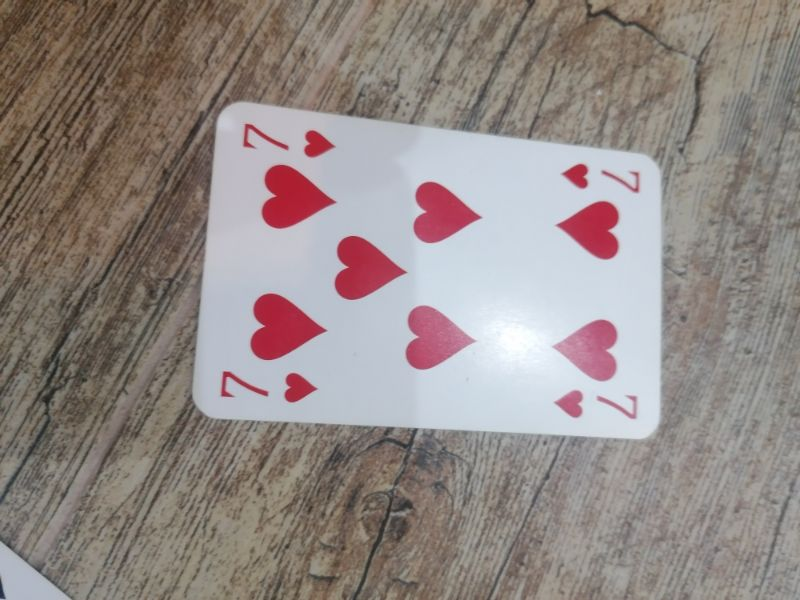7h: (235, 116, 339, 163), (217, 363, 323, 409), (549, 383, 643, 424), (559, 158, 645, 200)
